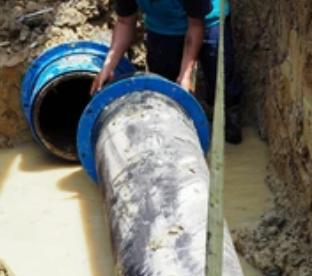water accumulation: (0, 124, 274, 276)
